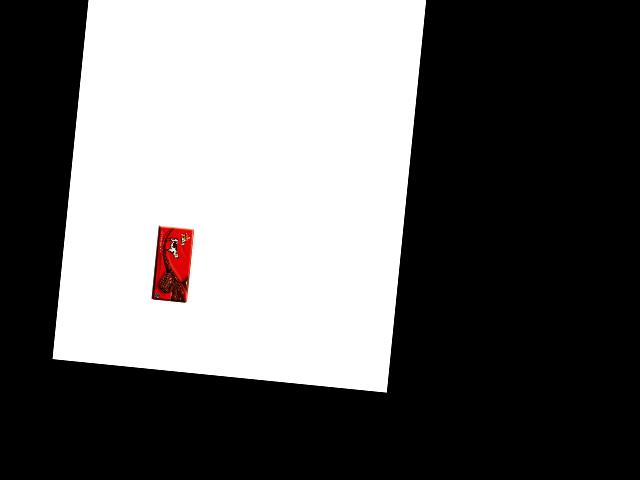chocolate: (157, 233, 200, 305)
